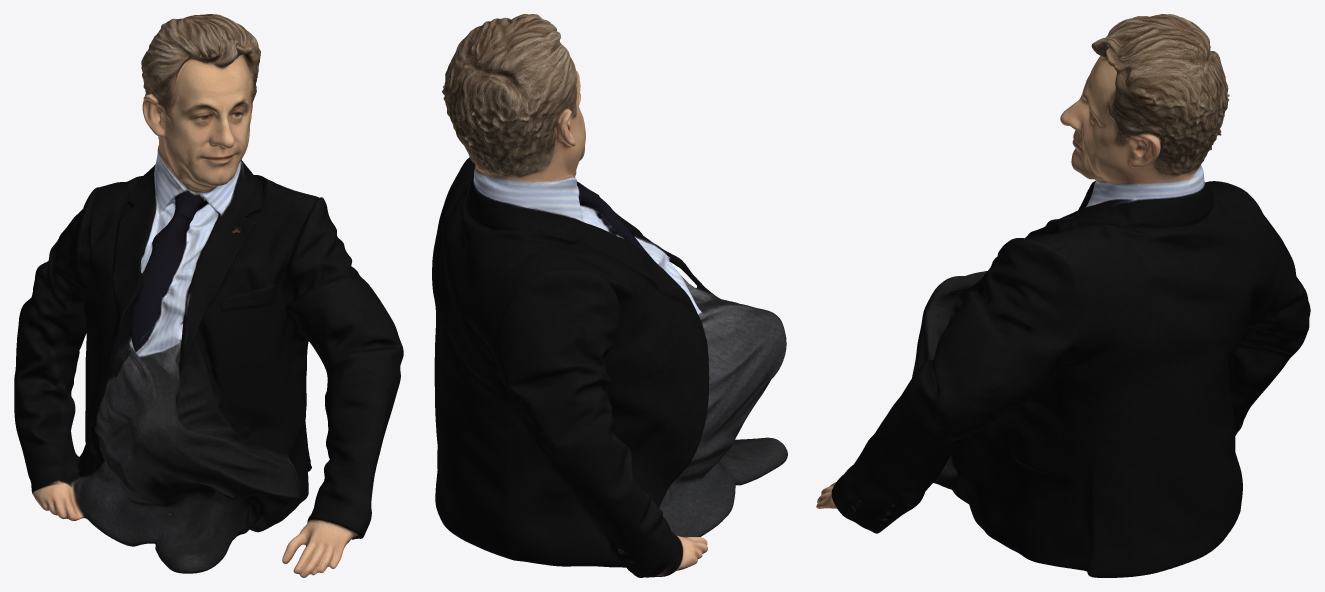
The model's file is mmodel.glb.
3 renders of one model, left to right at view 1: azimuth 30°, elevation 25°; view 2: azimuth 150°, elevation 25°; view 3: azimuth 270°, elevation 25°, orthographic. The views are drawn at different scales.
Size of the model in its own units: 1.2 by 1.9 by 1.66.
1 material, 1 textured.
